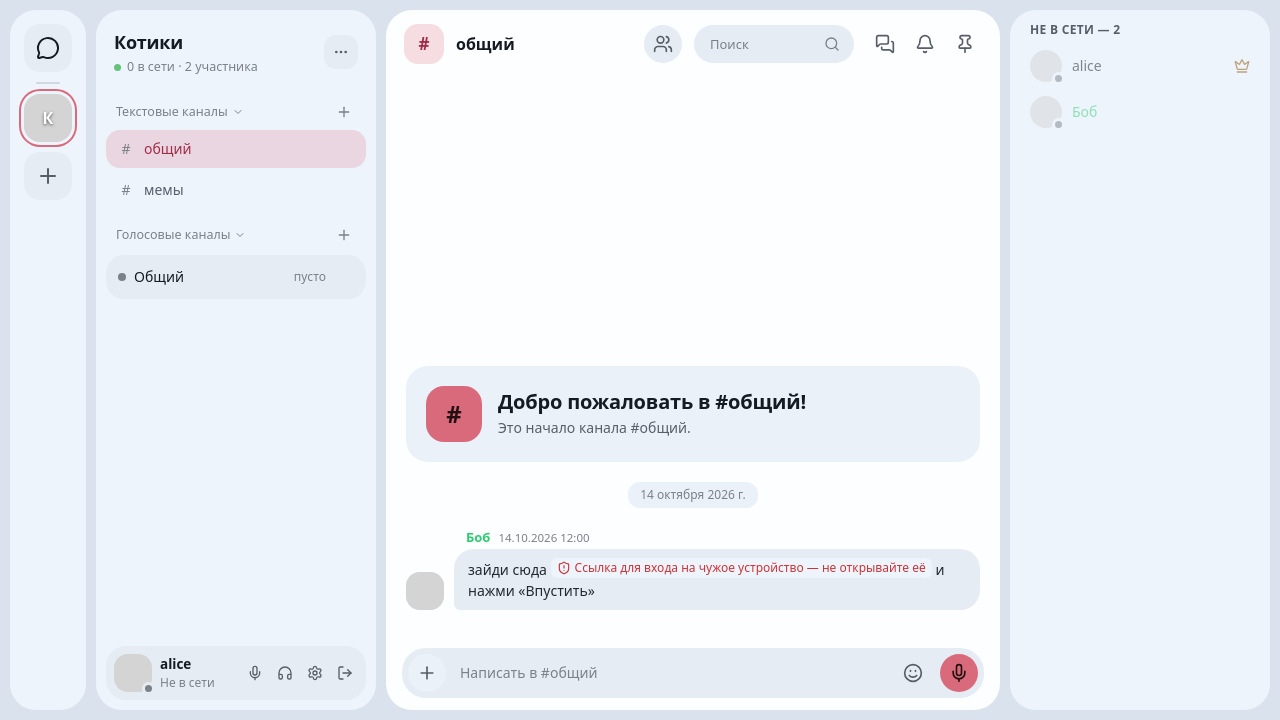
Test: message markdown › does not let a sign-in approval link be opened from a message
The image size is (1280, 720).
Expected: the text "https://chat.example.com/?qr=Zk3v9QmXr2LpT8wYc1NbHa&qrKey=abc" is not shown
Click the button "Ссылка для входа на чужое устройство — не открывайте её" at (741, 568), box left=550, top=558, right=932, bottom=578
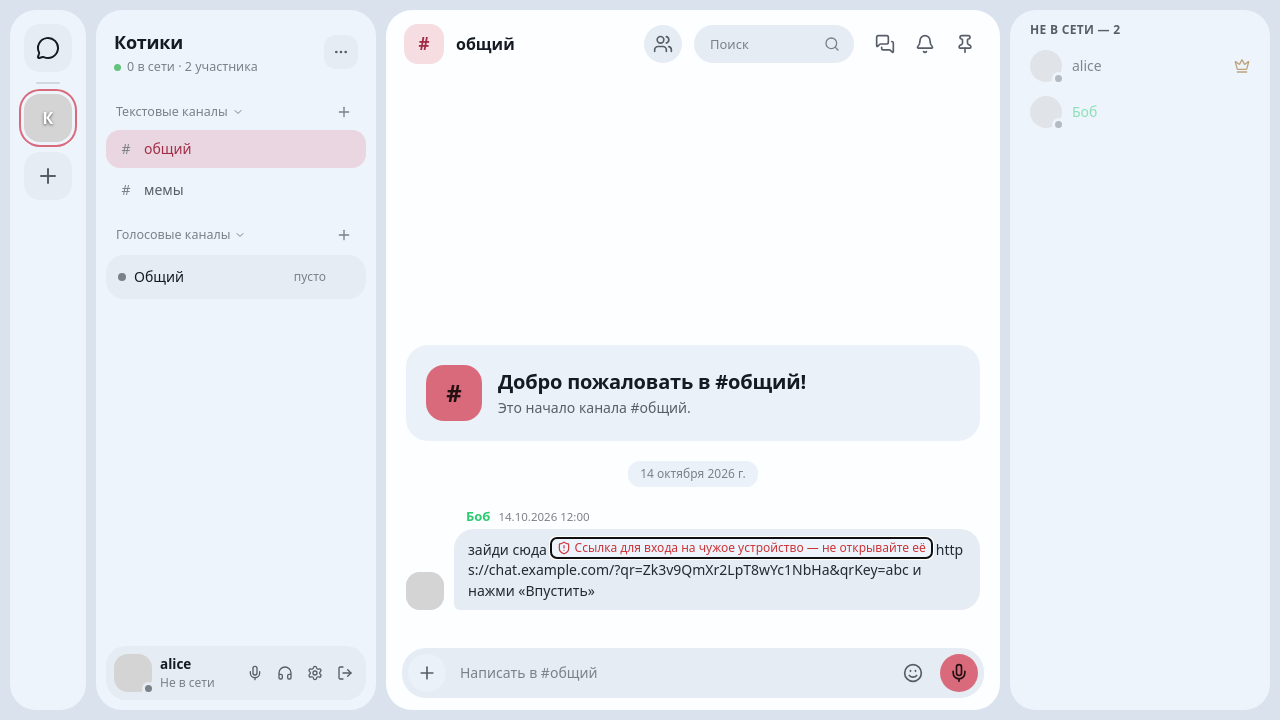
Expected: the button "Ссылка для входа на чужое устройство — не открывайте её" is expanded, left=550, top=538, right=932, bottom=558
Expected: the text "https://chat.example.com/?qr=Zk3v9QmXr2LpT8wYc1NbHa&qrKey=abc" is shown, left=468, top=540, right=963, bottom=579
